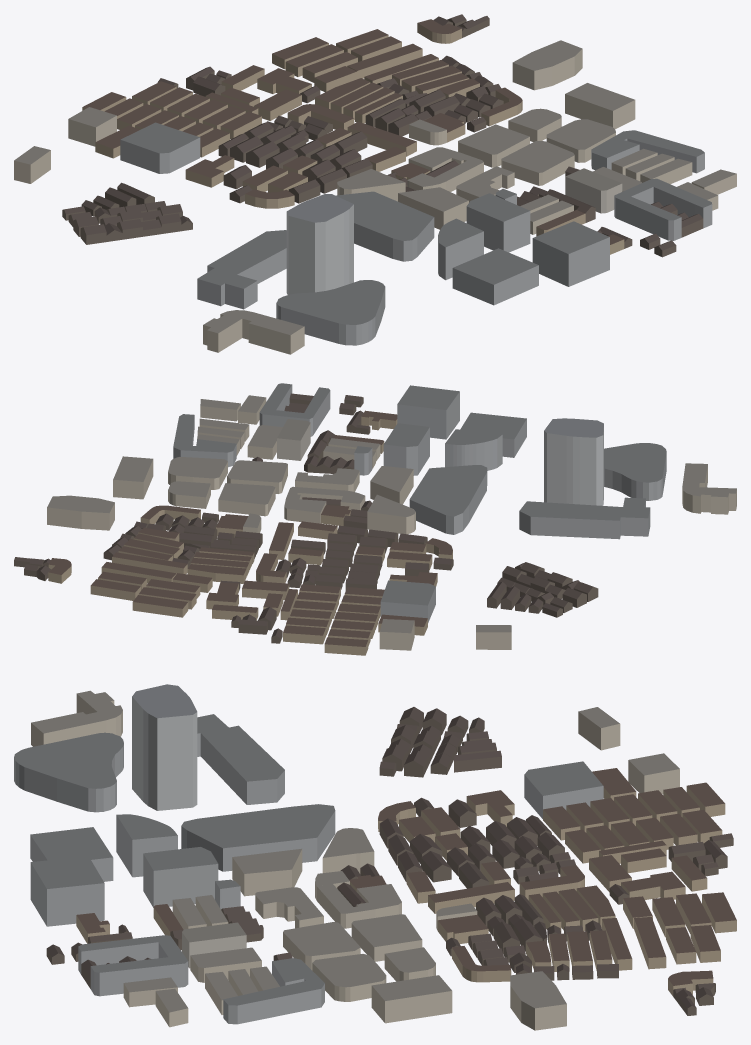
The model's file is tile_3_10.glb.
3 views of the same model, one above another, from view 1: azimuth 30°, elevation 25°; view 2: azimuth 150°, elevation 25°; view 3: azimuth 270°, elevation 25° (orthographic). The views are drawn at different scales.
Parts seen in each view (by area): view 1: HP-w373833533, HP-w369342458, HP-w373833531, HP-w50417964, HP-w1156310623, HP-w756799582, HP-w490348728, HP-w373833545, HP-w859078939, HP-w373833615, HP-w373833620, HP-w756799588 (+46 smaller); view 2: HP-w373833533, HP-w373833531, HP-w50417964, HP-w369342458, HP-w1156310623, HP-w373833620, HP-w373833534, HP-w373833545, HP-w756799582, HP-w373833615, HP-w859078939, HP-w756799588 (+43 smaller); view 3: HP-w373833533, HP-w50417964, HP-w369342458, HP-w373833531, HP-w756799582, HP-w1156310623, HP-w756799588, HP-w373833615, HP-w859078872, HP-w859078939, HP-w373833545, HP-w373833620 (+71 smaller).
Boxes of the visible parts, left/top/right/bottom form: HP-w373833533: left=286, top=194, right=353, bottom=294; HP-w369342458: left=276, top=280, right=385, bottom=345; HP-w373833531: left=197, top=230, right=286, bottom=309; HP-w50417964: left=336, top=191, right=434, bottom=261; HP-w1156310623: left=532, top=221, right=609, bottom=286; HP-w756799582: left=614, top=178, right=712, bottom=240; HP-w490348728: left=452, top=248, right=538, bottom=305; HP-w373833545: left=203, top=310, right=304, bottom=354; HP-w859078939: left=120, top=122, right=200, bottom=173; HP-w373833615: left=466, top=193, right=530, bottom=252; HP-w373833620: left=512, top=40, right=582, bottom=90; HP-w756799588: left=591, top=130, right=704, bottom=173; HP-w373833533: left=544, top=418, right=603, bottom=505; HP-w373833531: left=519, top=497, right=650, bottom=539; HP-w50417964: left=409, top=465, right=487, bottom=534; HP-w369342458: left=604, top=443, right=666, bottom=500; HP-w1156310623: left=397, top=385, right=459, bottom=439; HP-w373833620: left=47, top=495, right=114, bottom=530; HP-w373833534: left=445, top=429, right=502, bottom=470; HP-w373833545: left=682, top=463, right=736, bottom=514; HP-w756799582: left=259, top=383, right=330, bottom=436; HP-w373833615: left=383, top=423, right=429, bottom=475; HP-w859078939: left=380, top=580, right=435, bottom=622; HP-w756799588: left=173, top=414, right=236, bottom=467; HP-w373833533: left=132, top=684, right=197, bottom=810; HP-w50417964: left=181, top=804, right=335, bottom=871; HP-w369342458: left=14, top=732, right=123, bottom=812; HP-w373833531: left=197, top=714, right=284, bottom=804; HP-w756799582: left=78, top=935, right=188, bottom=996; HP-w1156310623: left=30, top=856, right=104, bottom=926; HP-w756799588: left=223, top=958, right=324, bottom=1024; HP-w373833615: left=143, top=847, right=218, bottom=907; HP-w859078872: left=371, top=975, right=452, bottom=1023; HP-w859078939: left=524, top=761, right=603, bottom=818; HP-w373833545: left=31, top=690, right=122, bottom=746; HP-w373833620: left=510, top=971, right=566, bottom=1030.
Bounding box in the file's own units: 551 × 75 × 530.
